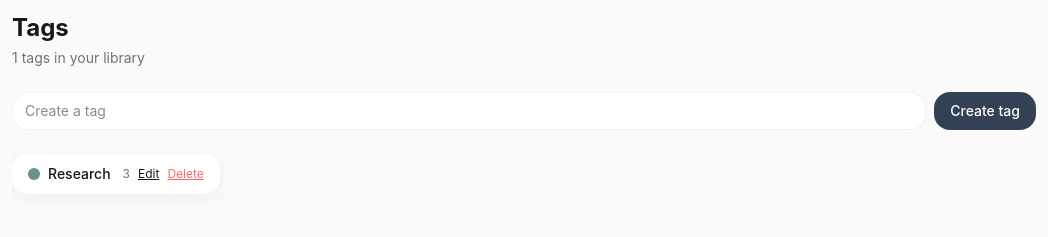
dashboard search and tag features › rejects duplicate tag names before sending a create request
Type " research " into the field named "New tag name" at (469, 111), box [12,92,926,130]
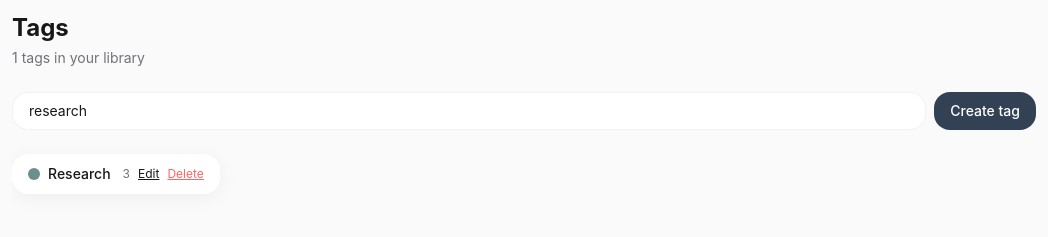
Click the button "Create tag" at (985, 111), box [934,92,1036,130]
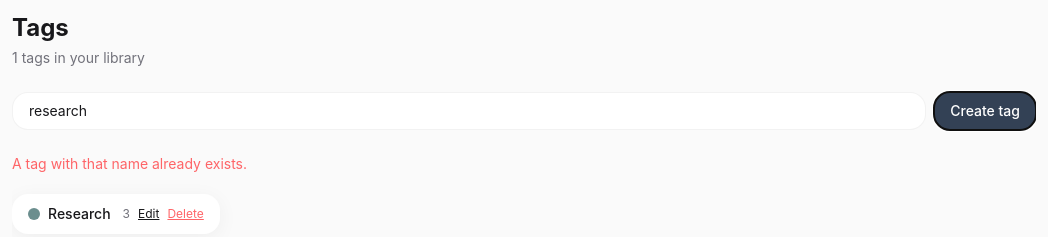
Result: the message shows "already exists" at [12,155,247,172]
